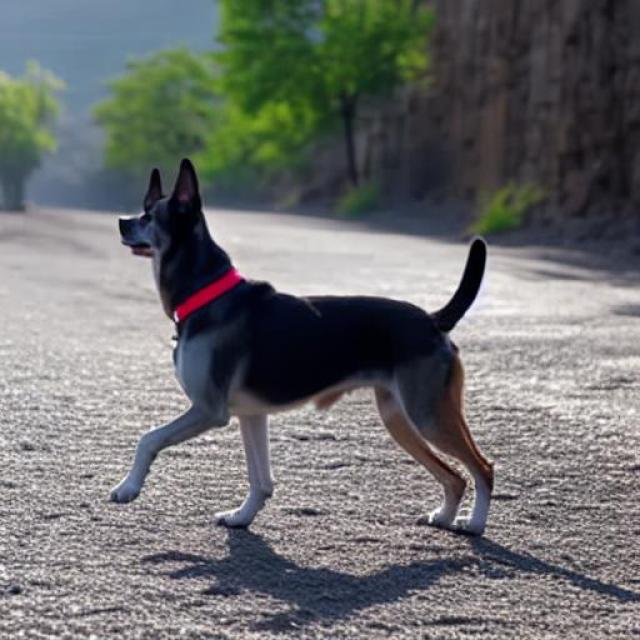Dog: (110, 157, 496, 537)
